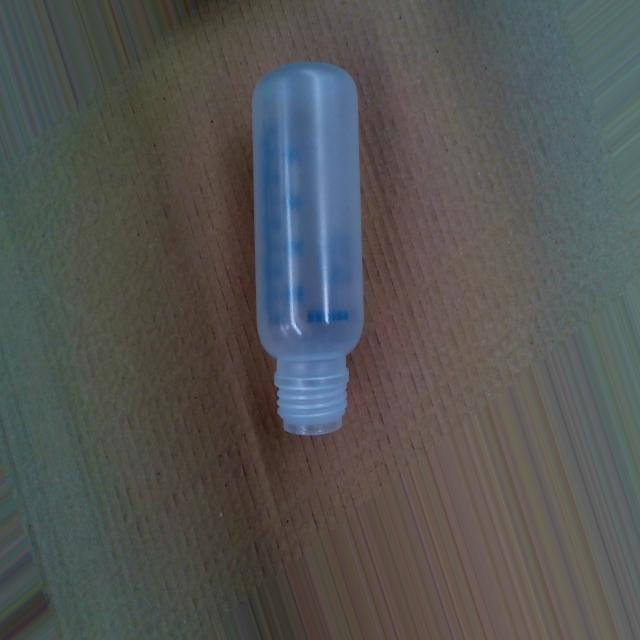bottle: (248, 56, 370, 443)
